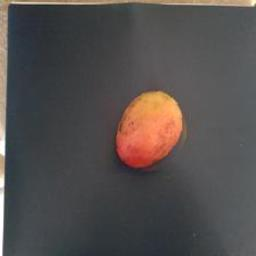Mango Semifresh: (106, 75, 192, 175)
